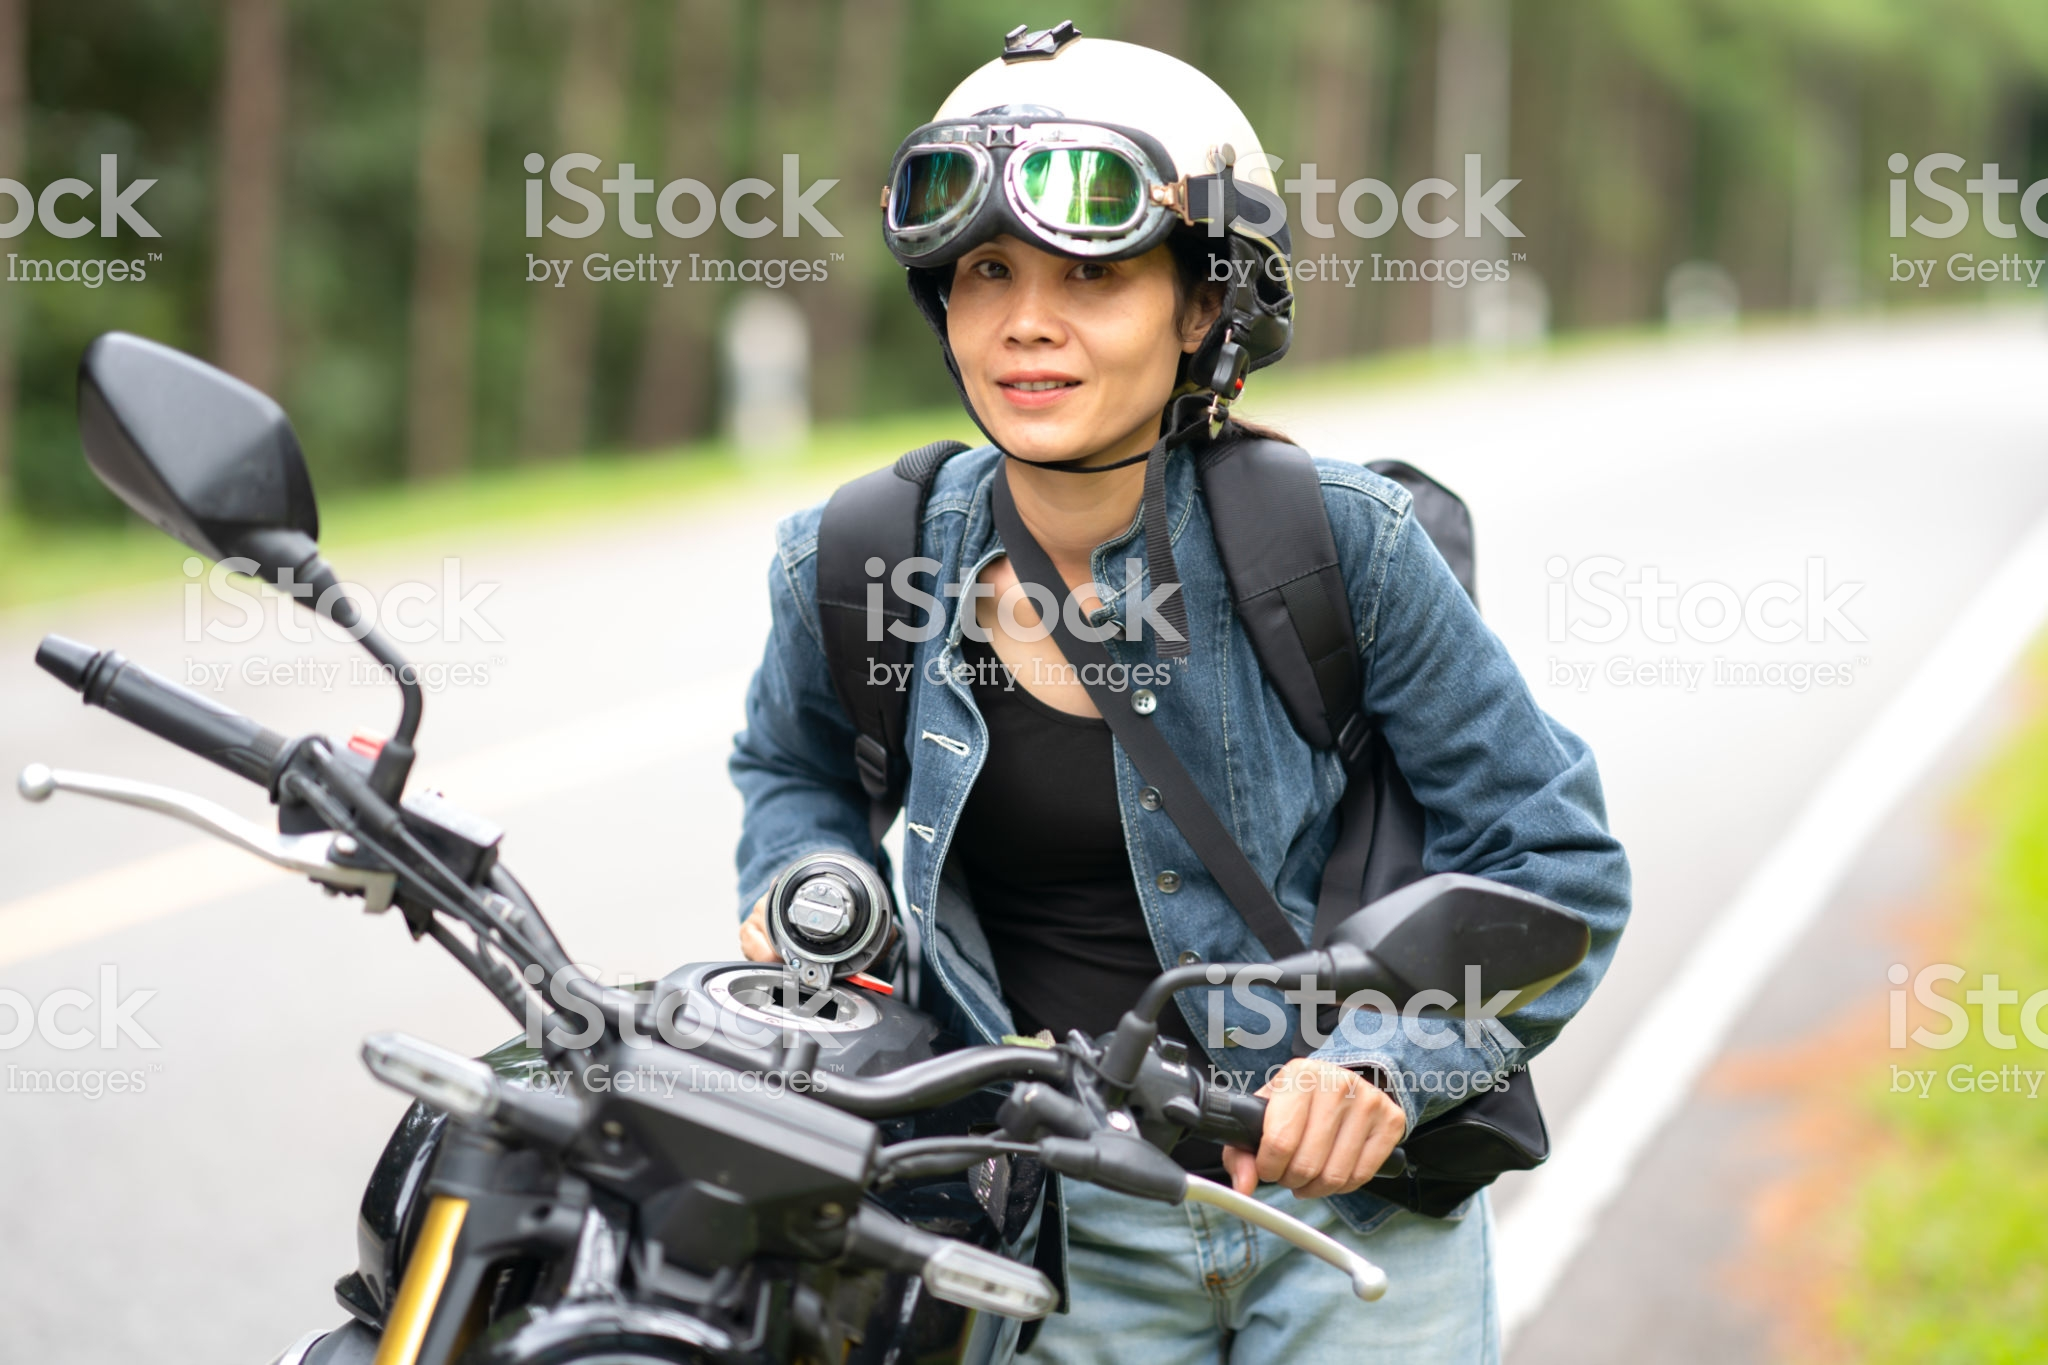helmet: (911, 43, 1329, 318)
